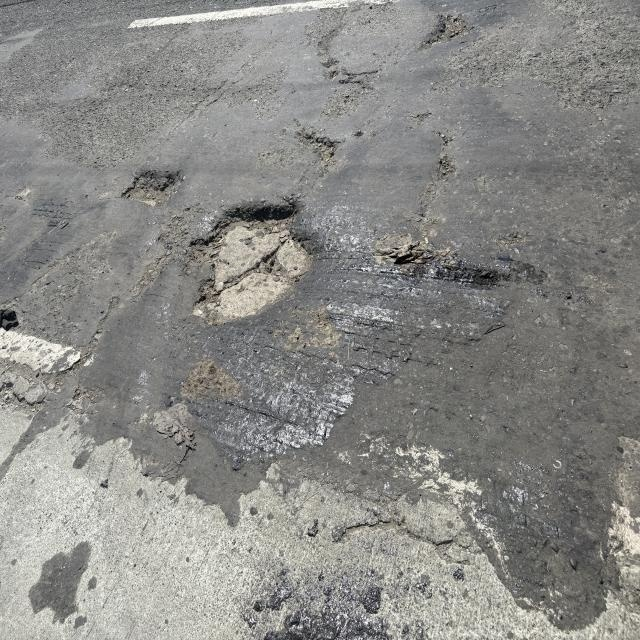pothole: (199, 203, 325, 322), (126, 161, 188, 225)
